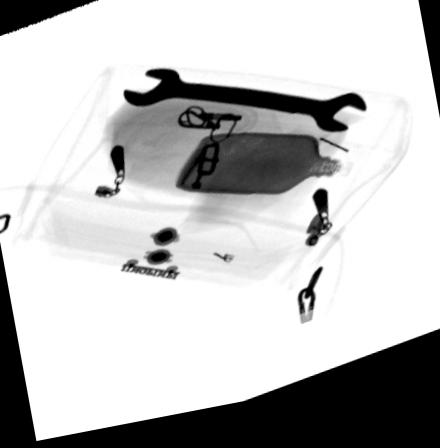Wrench: (120, 72, 370, 147)
